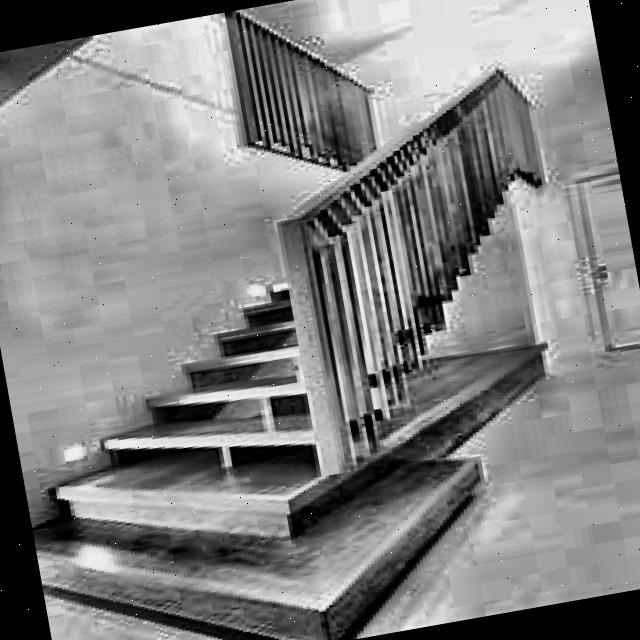staircase: (45, 312, 487, 640)
